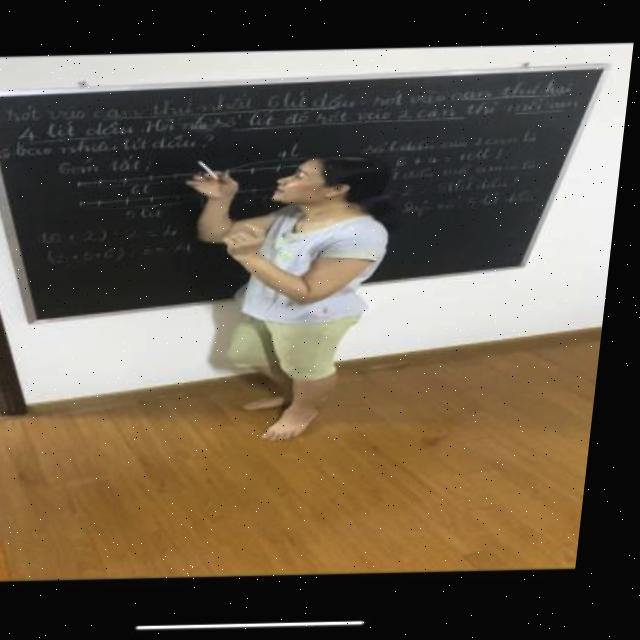cigarette: (199, 160, 227, 182)
